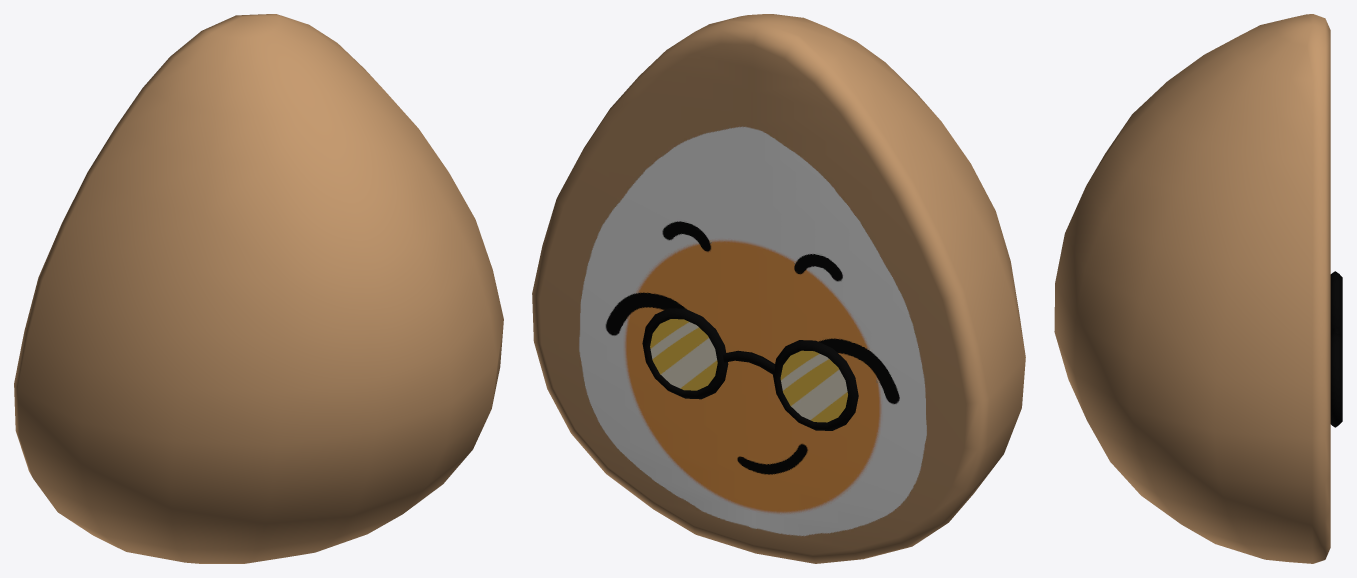
File: Eggson.glb
3 views of the same model, side by side, from view 1: azimuth 30°, elevation 25°; view 2: azimuth 150°, elevation 25°; view 3: azimuth 270°, elevation 25° (orthographic). The views are drawn at different scales.
Visible parts, largest first — view 1: Eggson Head; view 2: Eggson Head; view 3: Eggson Head.
Boxes of the visible parts, x1,y1,x2,y2 form: Eggson Head: (14,14,503,563); Eggson Head: (532,14,1025,563); Eggson Head: (1054,14,1342,563).
Size of the model in its own units: 3.02 by 3.36 by 1.72.
1 material, 1 textured.
